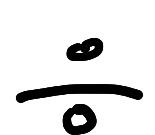div: (12, 37, 143, 135)
